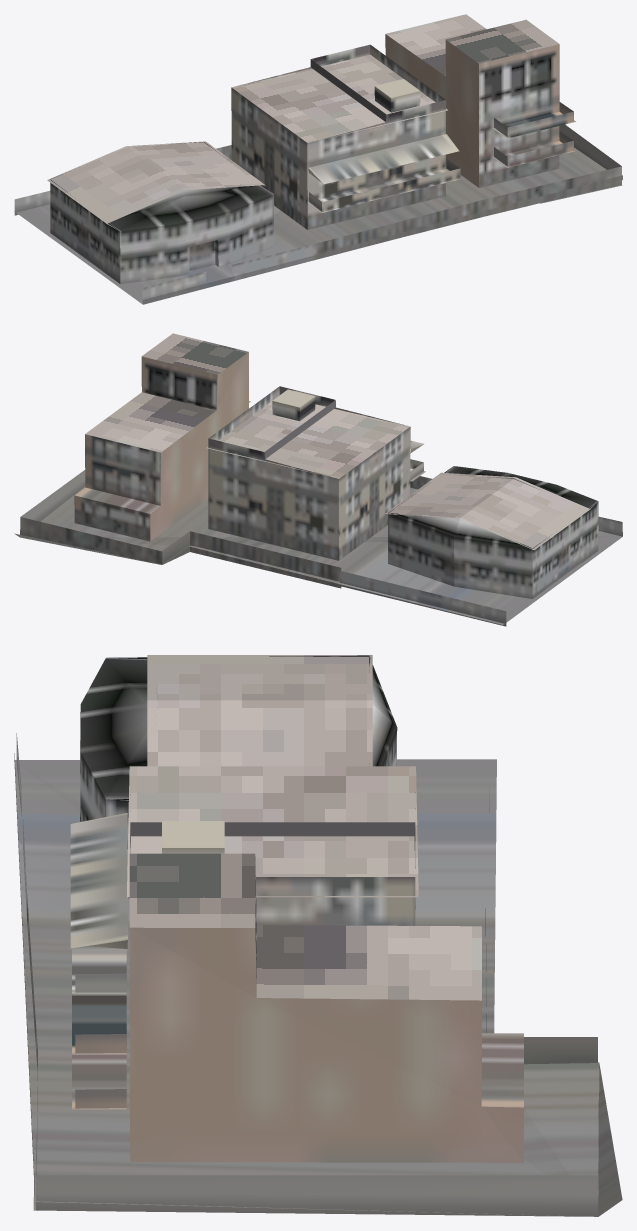
The model's file is lodtahouse04_law2.obj.
3 views of the same model, one above another, from view 1: azimuth 30°, elevation 25°; view 2: azimuth 150°, elevation 25°; view 3: azimuth 270°, elevation 25° (orthographic). The views are drawn at different scales.
Parts seen in each view (by area): view 1: LODtahouse04_law2; view 2: LODtahouse04_law2; view 3: LODtahouse04_law2.
Part boxes in pixels (x1=…): LODtahouse04_law2: x1=14, y1=14, x2=622, y2=304; LODtahouse04_law2: x1=14, y1=333, x2=622, y2=626; LODtahouse04_law2: x1=14, y1=655, x2=622, y2=1216.
Bounding box in the file's own units: 44.44 × 11.77 × 25.49.
2 materials, 2 textured.
